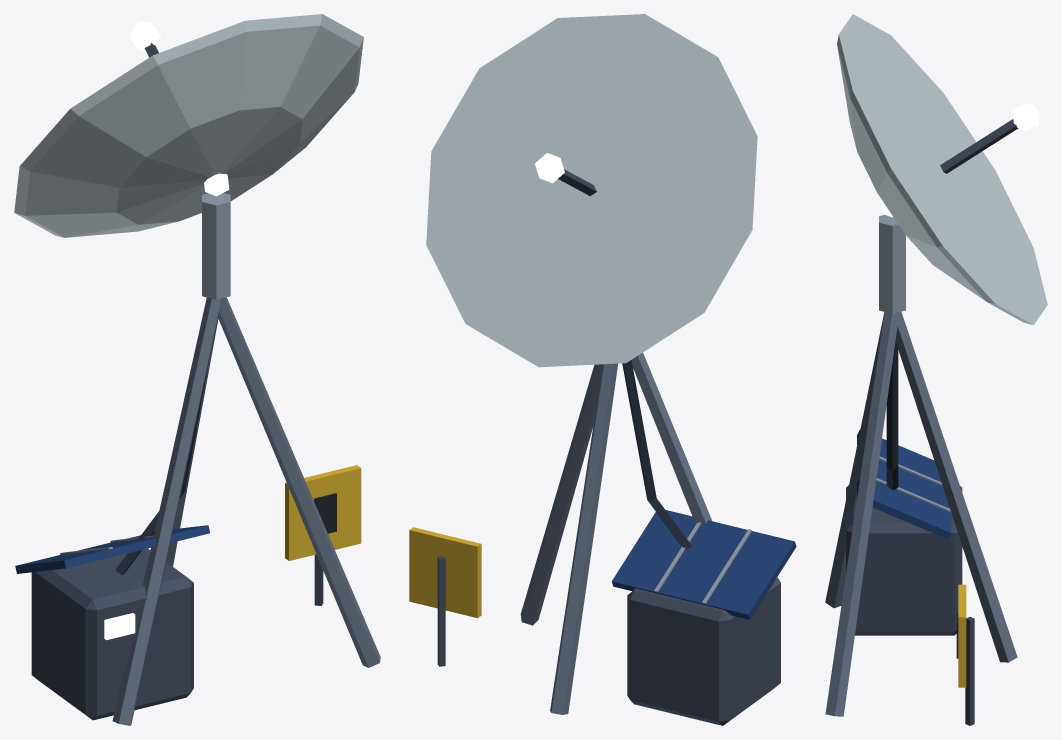
Rendered from kit-arctic-decor-3.glb.
3 renders of one model, left to right at view 1: azimuth 30°, elevation 25°; view 2: azimuth 150°, elevation 25°; view 3: azimuth 270°, elevation 25°, orthographic. The views are drawn at different scales.
Visible parts, largest first — view 1: kit-arctic-decor-3; view 2: kit-arctic-decor-3; view 3: kit-arctic-decor-3.
Part boxes in pixels (left/top/right/bottom): kit-arctic-decor-3: left=14, top=14, right=380, bottom=725; kit-arctic-decor-3: left=409, top=14, right=796, bottom=725; kit-arctic-decor-3: left=825, top=14, right=1047, bottom=725.
Size of the model in its own units: 0.97 by 1.79 by 0.5745.
